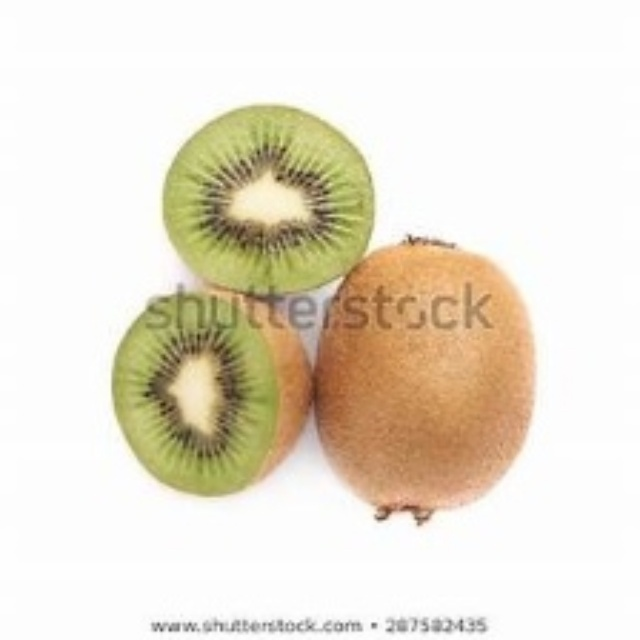kiwi: (319, 241, 545, 529), (84, 293, 309, 502), (160, 108, 370, 299)
